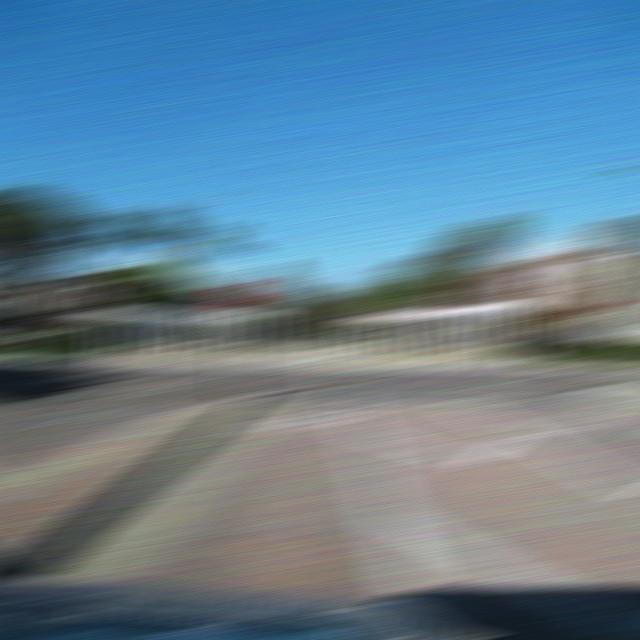stop_sign: (213, 280, 260, 309)
